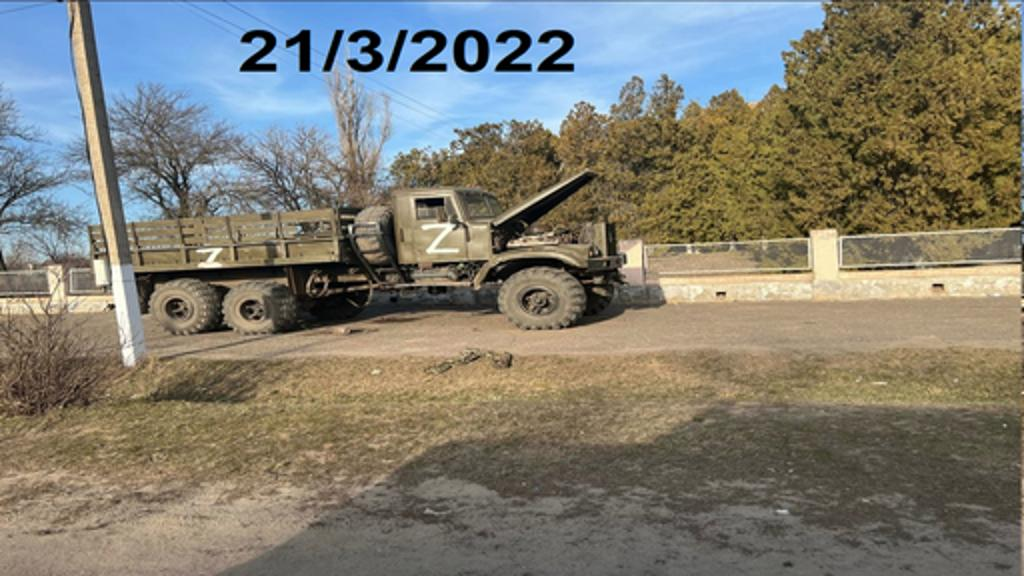TRUCK: (88, 160, 624, 368)
